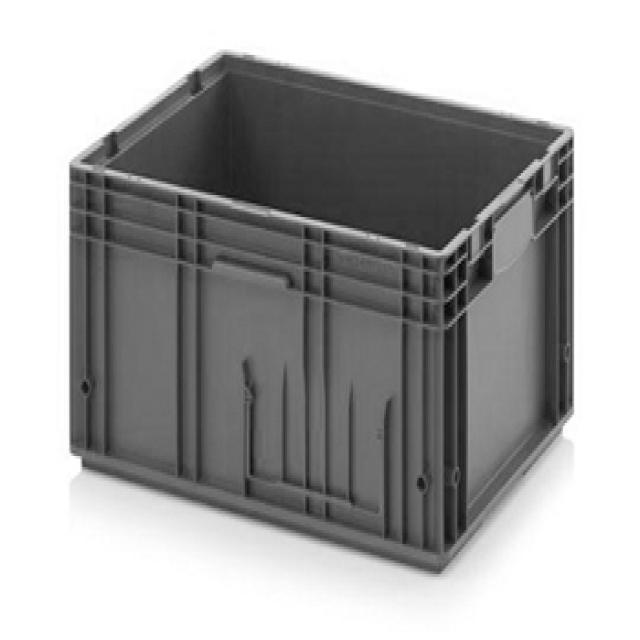basket: (2, 25, 634, 590)
